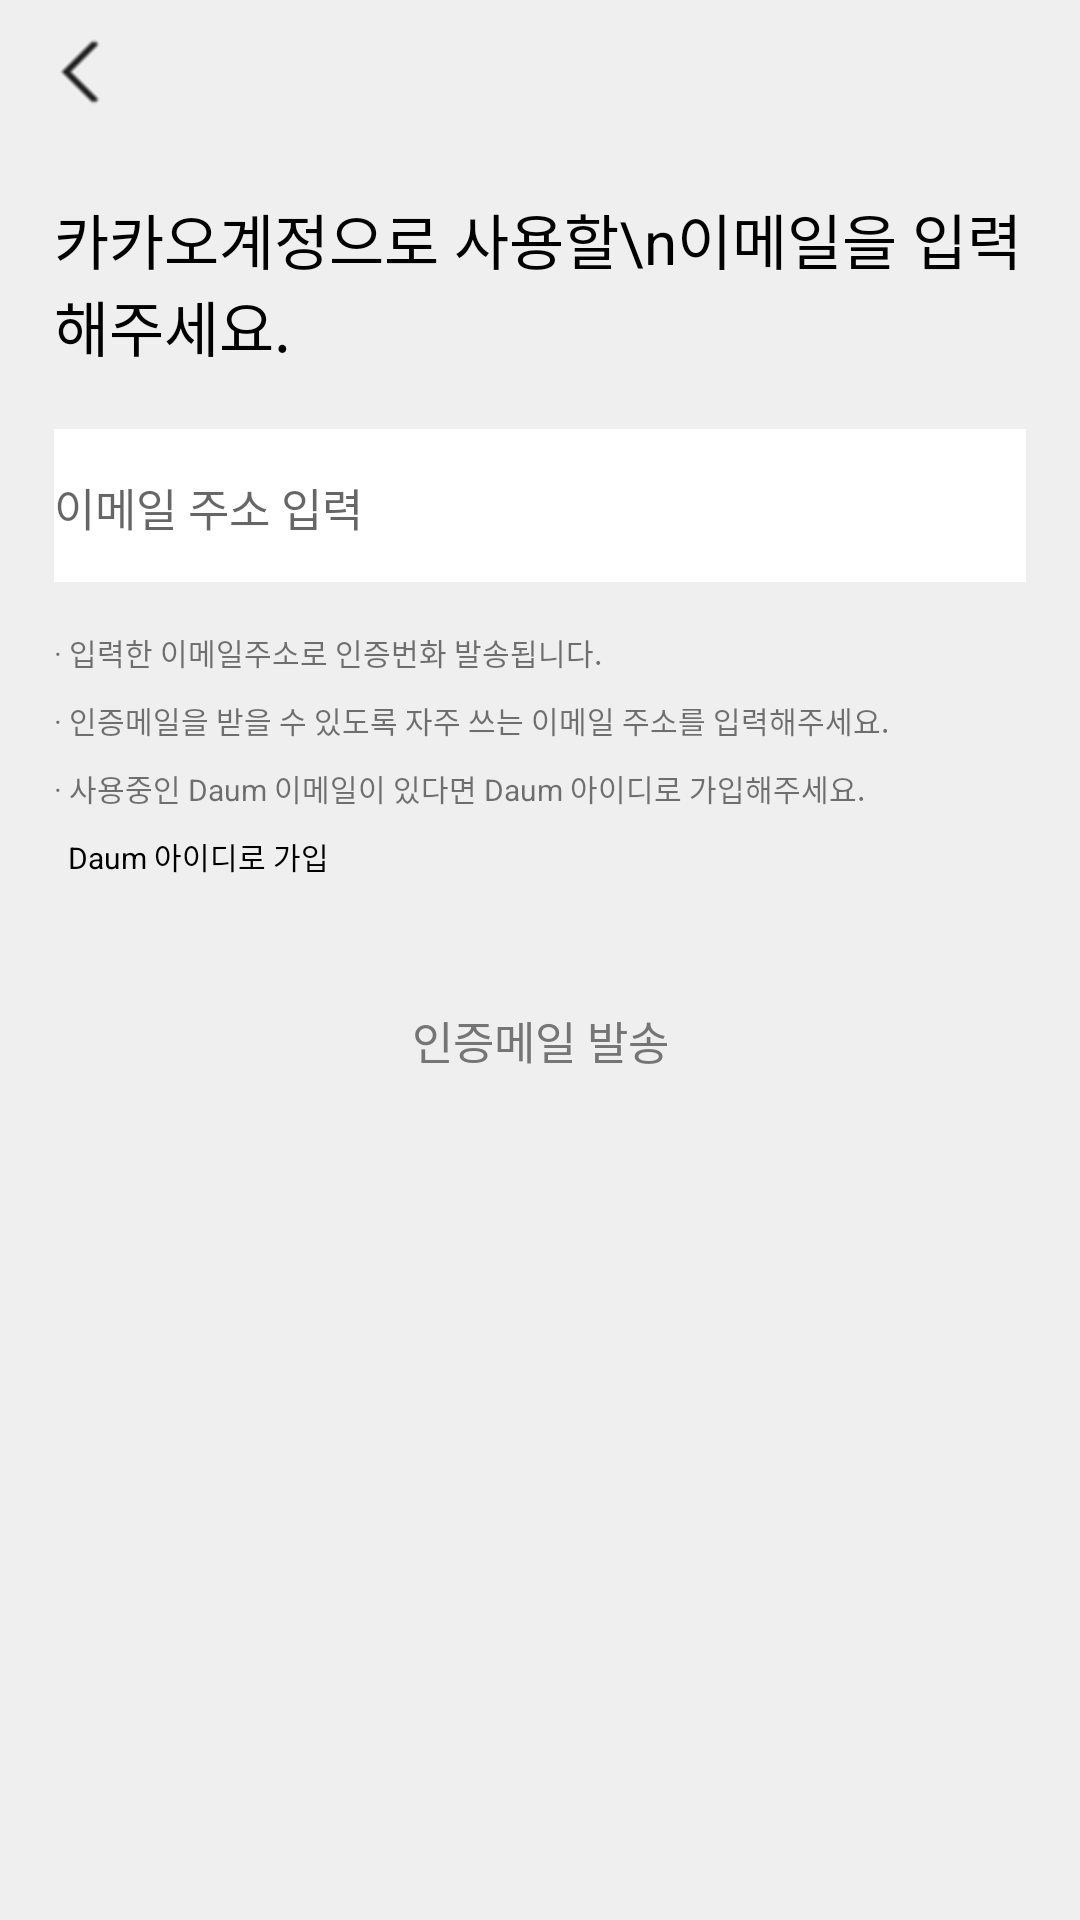

Icons on this 1080w x 1920h Android screen, each with its box as (x1, y1, x2, y2):
left: (61, 40, 99, 103)
